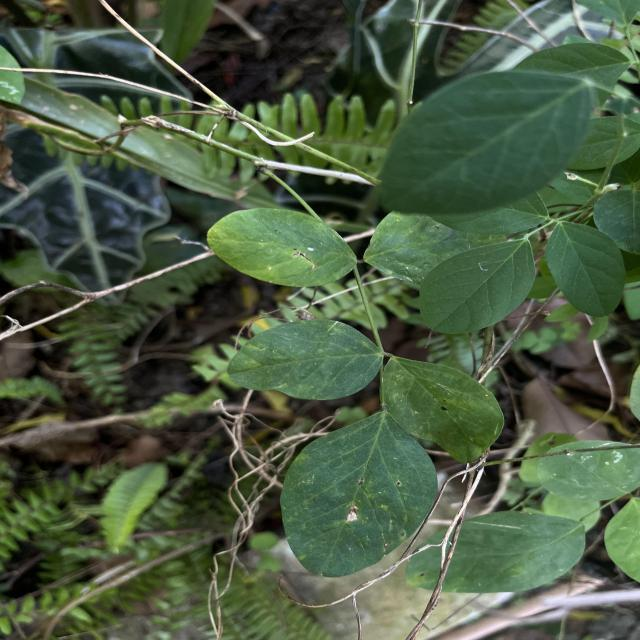Clitoria ternatea: (278, 411, 440, 578), (378, 354, 506, 466), (226, 319, 384, 401), (205, 207, 359, 288), (418, 238, 536, 336), (544, 221, 626, 318)
